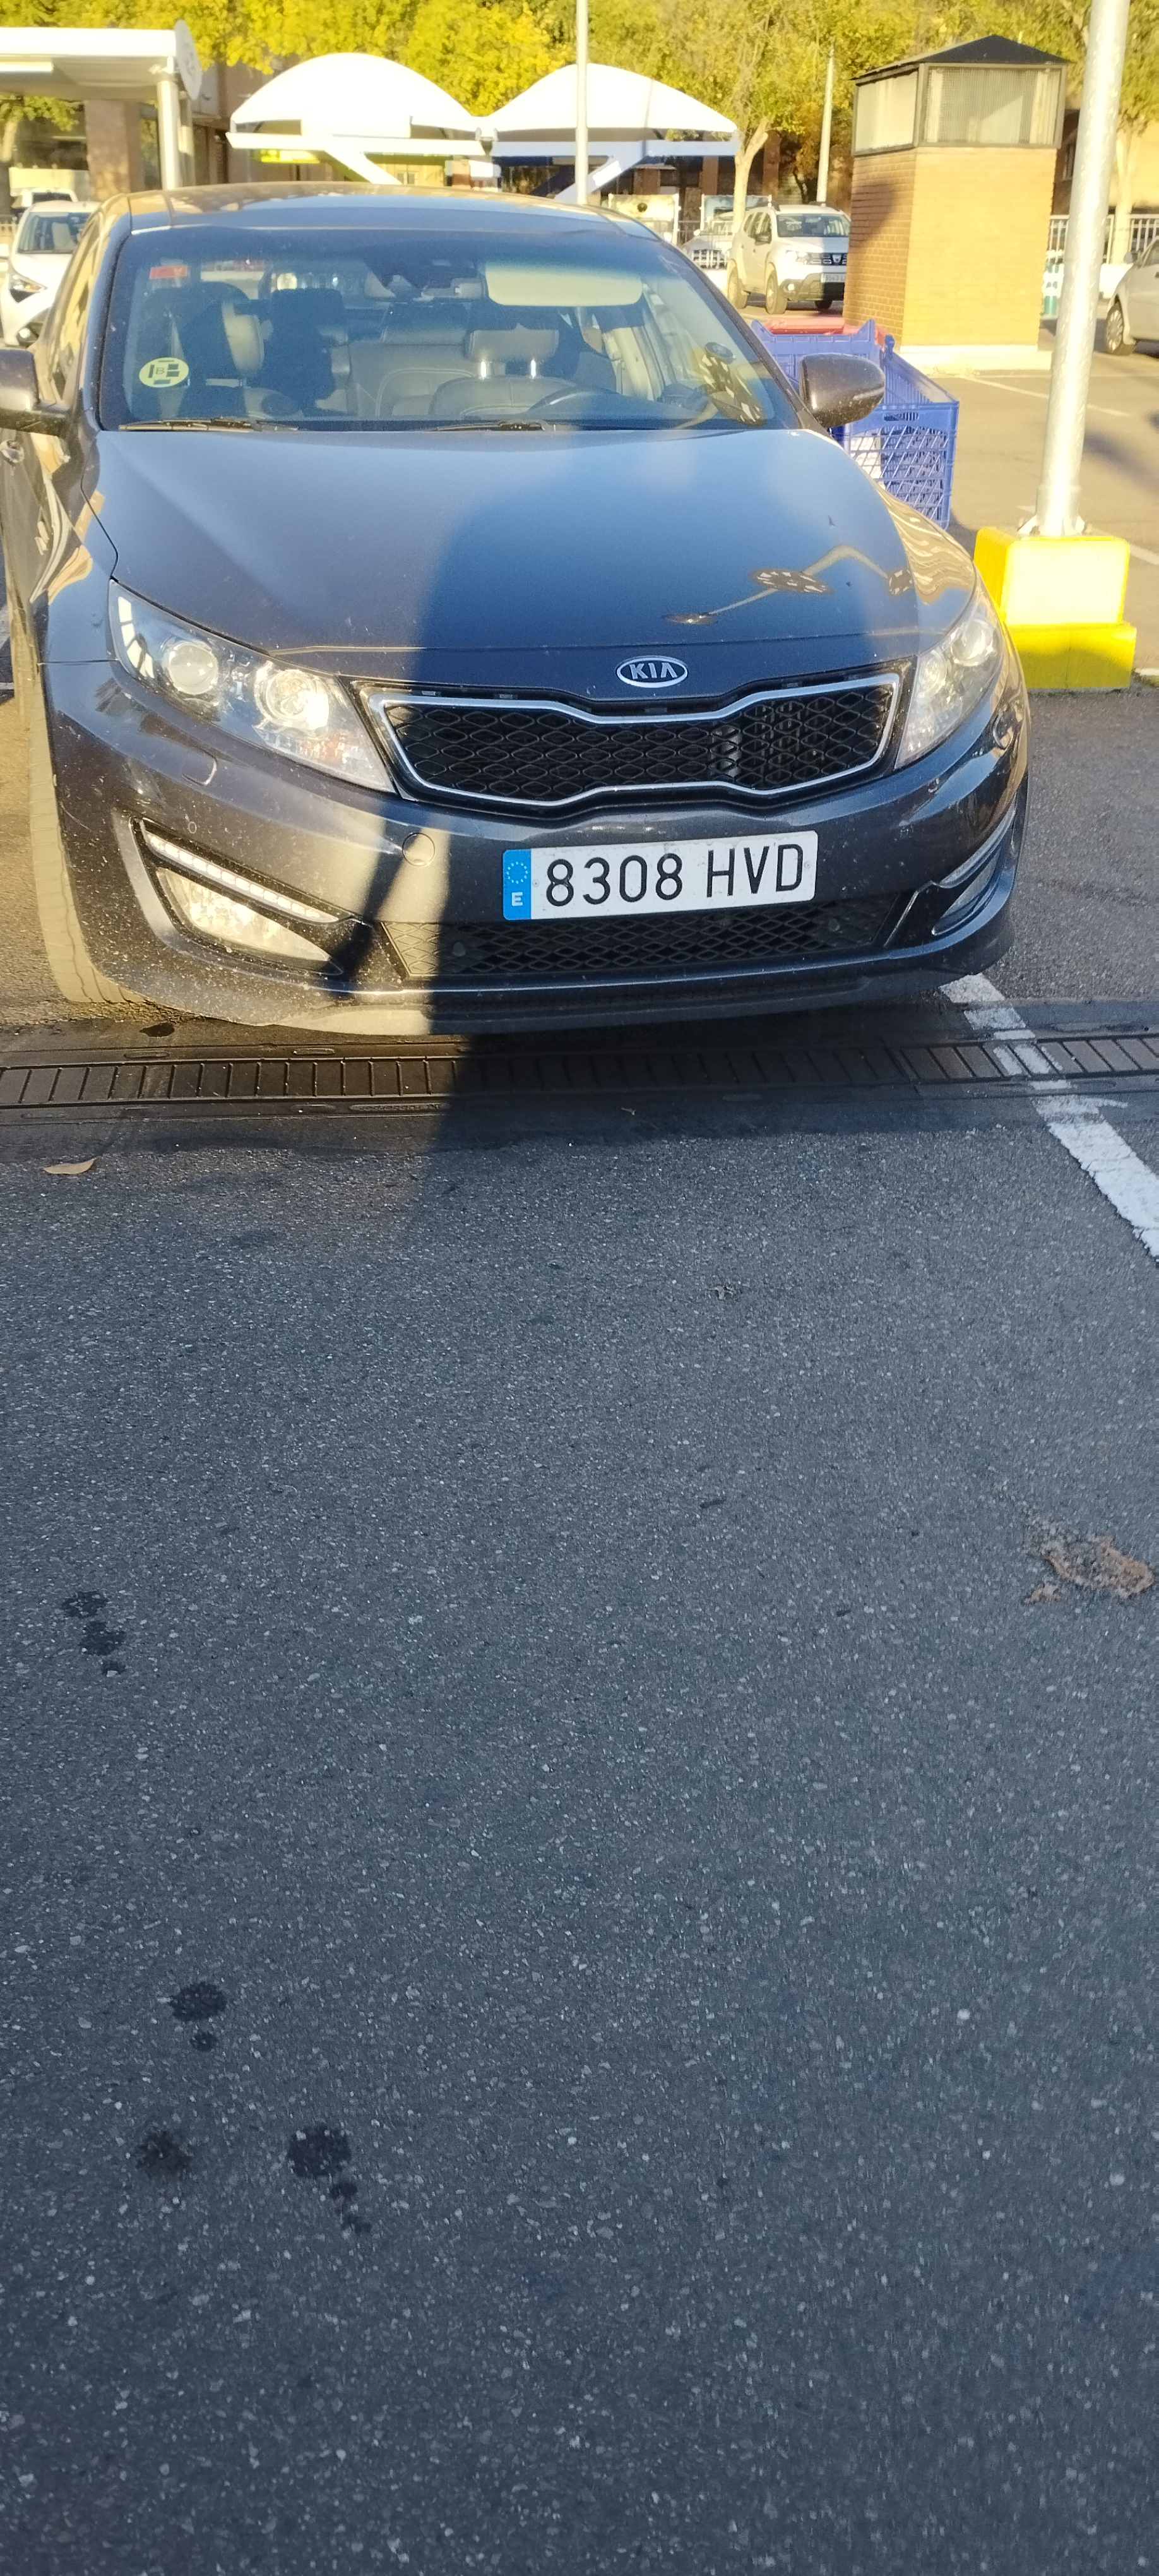Car: (0, 182, 1032, 1001)
Plate: (499, 846, 813, 920)
